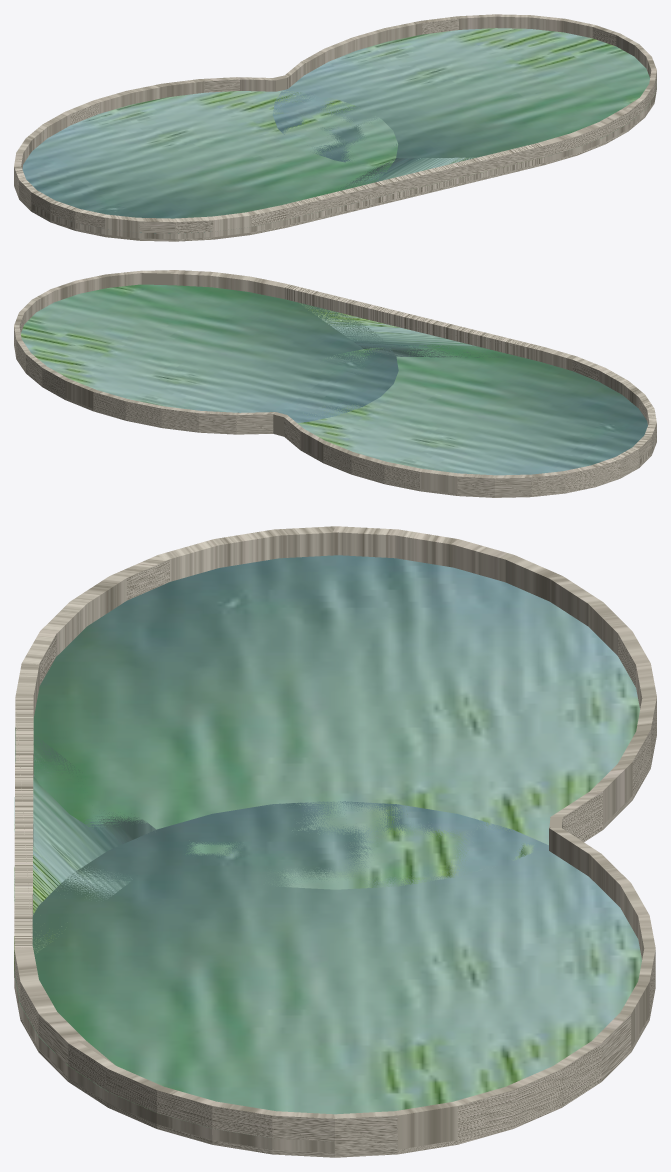
The model's file is Pond.obj.
3 views of the same model, one above another, from view 1: azimuth 30°, elevation 25°; view 2: azimuth 150°, elevation 25°; view 3: azimuth 270°, elevation 25° (orthographic). The views are drawn at different scales.
Visible parts, largest first — view 1: Cylinder.001; view 2: Cylinder.001; view 3: Cylinder.001.
Boxes of the visible parts, x1,y1,x2,y2 form: Cylinder.001: [14, 14, 656, 241]; Cylinder.001: [14, 270, 656, 497]; Cylinder.001: [14, 526, 656, 1157].
Bounding box in the file's own units: 30.84 × 0.9427 × 14.14.
